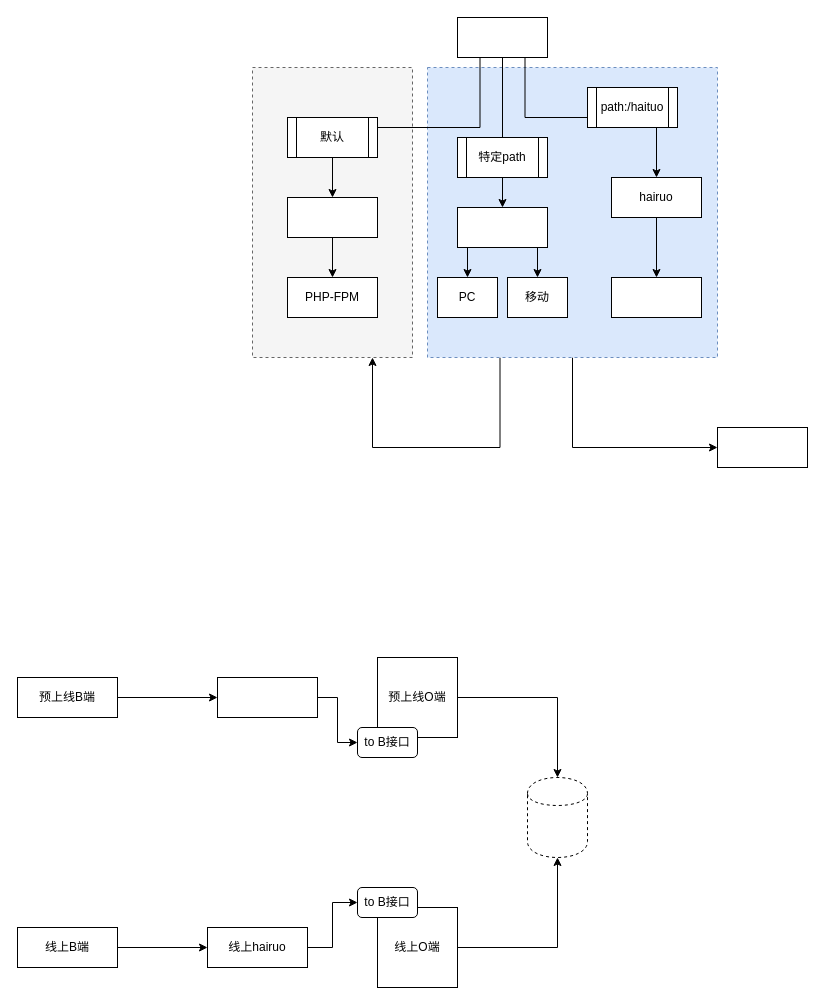
This 825x1005 diagram has some shape labels left out. The centre of each missing label's shape, as x and y in pixels:
"BFE" belongs at point 502,37.
"new-FE" belongs at point 502,227.
"NGINX" belongs at point 332,217.
"O端" belongs at point 762,447.
"springboot" belongs at point 656,297.
"线上DB" belongs at point 557,817.
"预上线hairuo" belongs at point 267,697.
